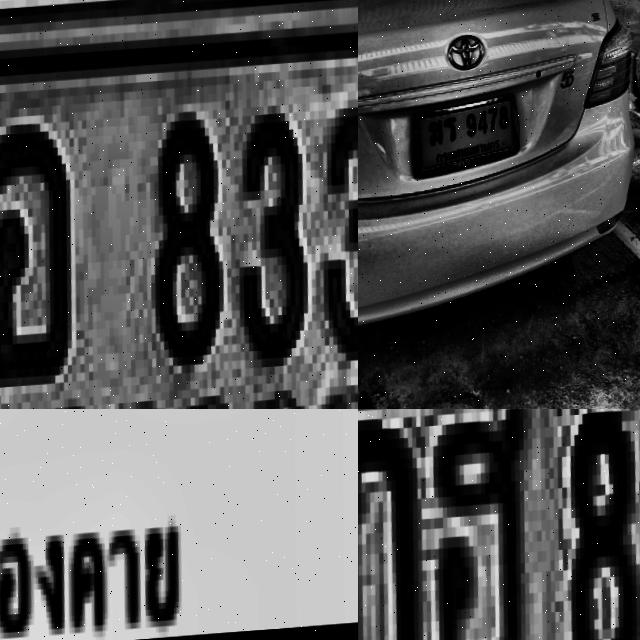license-plate: (0, 3, 358, 409), (0, 409, 358, 640), (358, 409, 640, 640), (410, 90, 530, 180)
